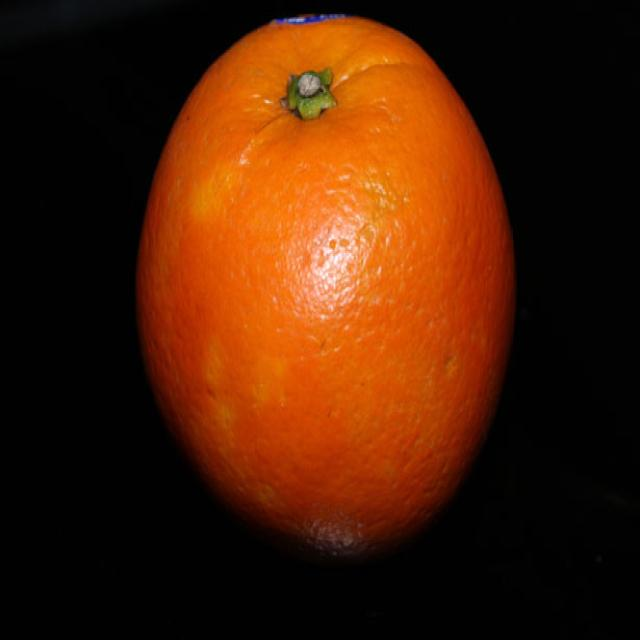orange: (133, 11, 523, 555)
